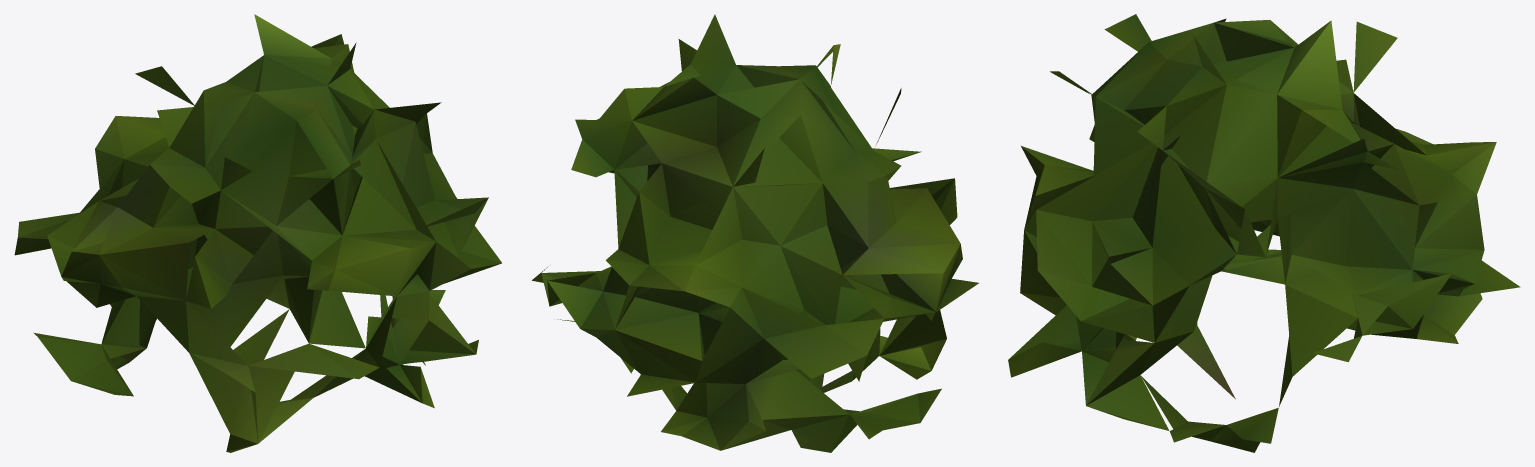
Rendered from lib_tp_doan.vc2.glb.
3 renders of one model, left to right at view 1: azimuth 30°, elevation 25°; view 2: azimuth 150°, elevation 25°; view 3: azimuth 270°, elevation 25°, orthographic. The views are drawn at different scales.
Visible parts, largest first — view 1: lib_tp_doan; view 2: lib_tp_doan; view 3: lib_tp_doan.
Boxes of the visible parts, <box> form: lib_tp_doan: <box>14,14,501,452</box>; lib_tp_doan: <box>532,14,978,452</box>; lib_tp_doan: <box>1008,14,1520,452</box>.
Bounding box in the file's own units: 1.41 × 1.21 × 1.39.
